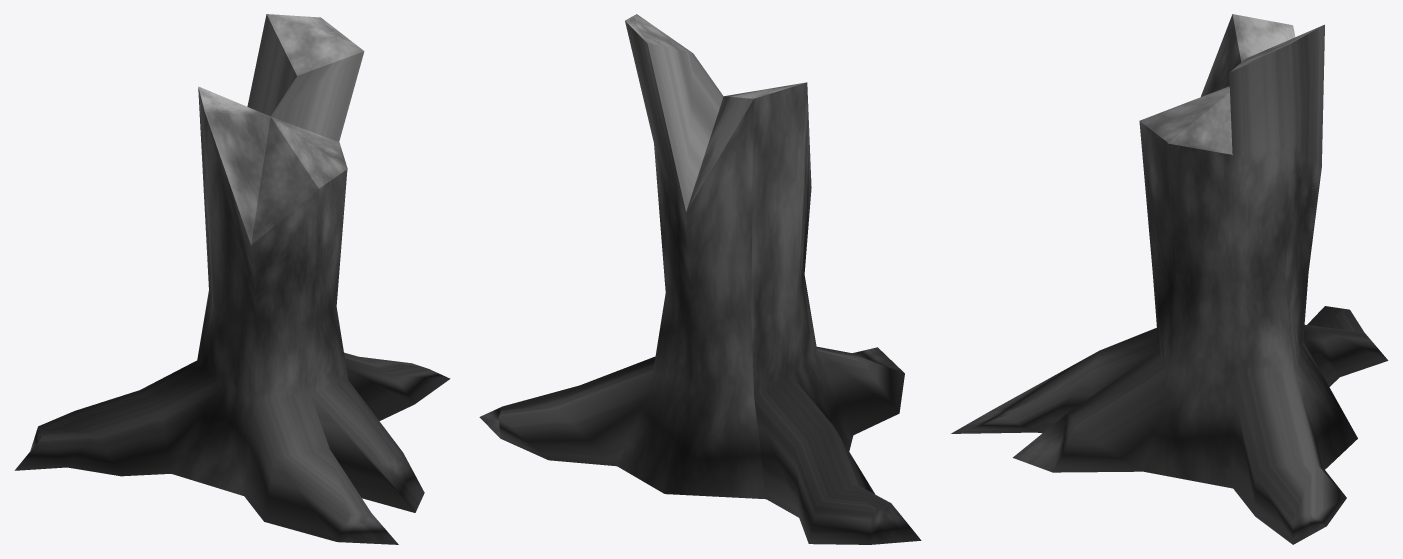
Rendered from FALLOW PLANT.fbx.
The picture shows the model from 3 angles, left to right: view 1: azimuth 30°, elevation 25°; view 2: azimuth 150°, elevation 25°; view 3: azimuth 270°, elevation 25°; orthographic projection. The views are drawn at different scales.
Visible parts, largest first — view 1: FALLOWPLANT_MESH; view 2: FALLOWPLANT_MESH; view 3: FALLOWPLANT_MESH.
Part boxes in pixels (x1=…): FALLOWPLANT_MESH: x1=14, y1=14, x2=450, y2=544; FALLOWPLANT_MESH: x1=479, y1=14, x2=921, y2=544; FALLOWPLANT_MESH: x1=951, y1=14, x2=1388, y2=544.
Size of the model in its own units: 0.4055 by 0.3635 by 0.3353.
1 material, 1 textured.
